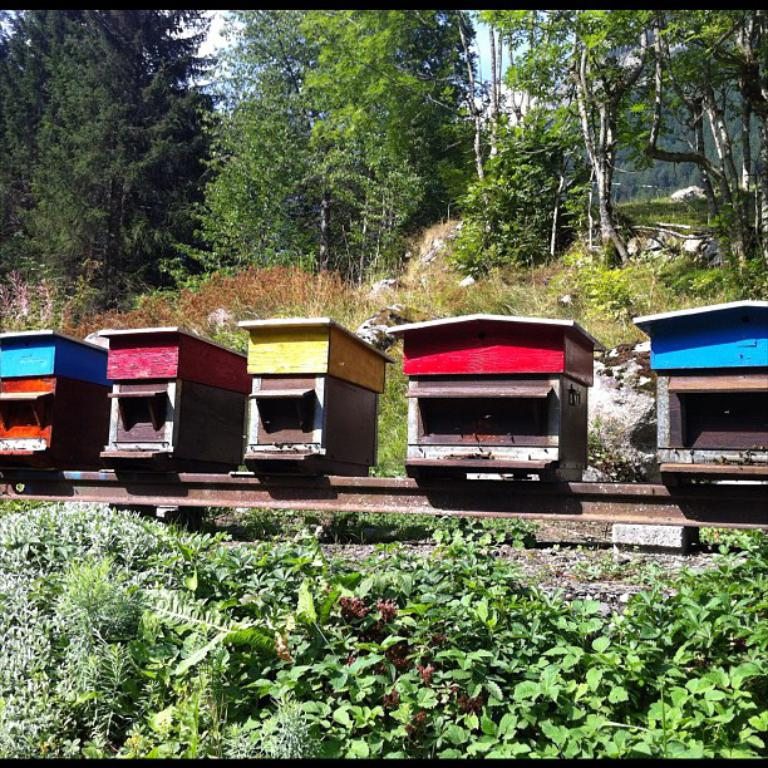Tree: (0, 11, 768, 334)
